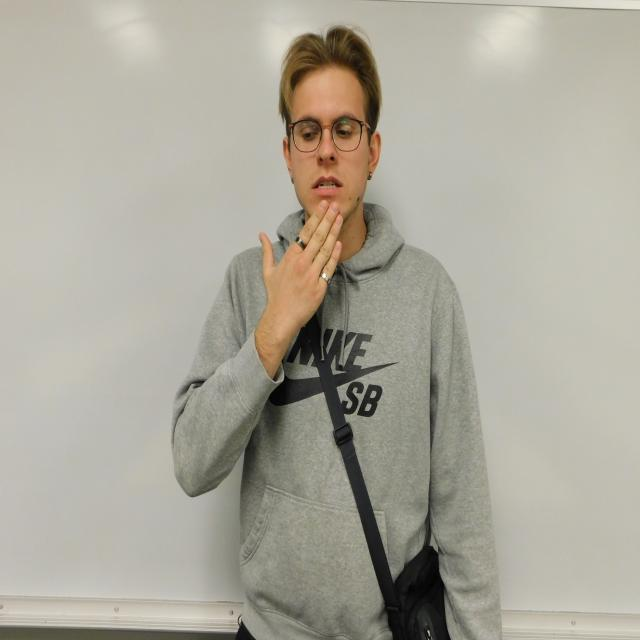thank-you: (259, 200, 343, 325)
